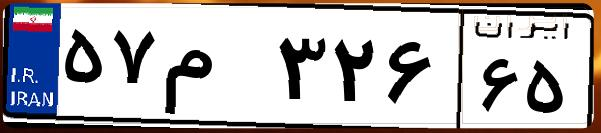2: (330, 28, 385, 110)
3: (270, 28, 330, 110)
5: (57, 26, 110, 100), (525, 38, 570, 115)
6: (385, 28, 445, 110), (475, 38, 525, 113)
7: (110, 28, 158, 98)
م: (158, 20, 270, 120)
